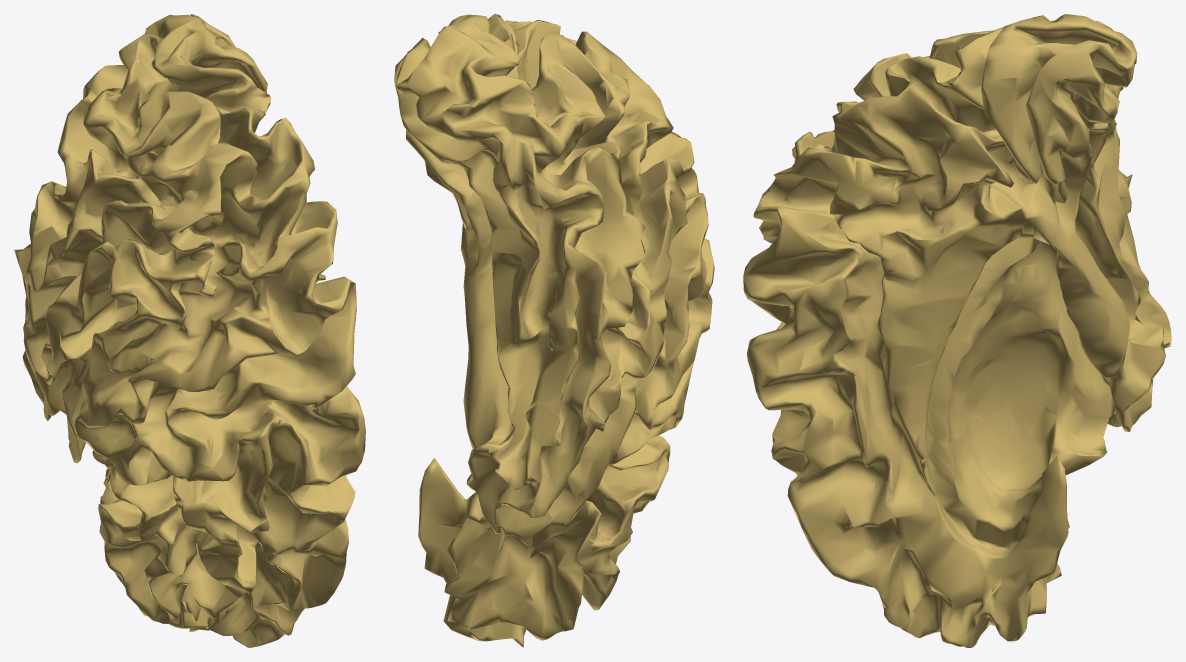
3 renders of one model, left to right at view 1: azimuth 30°, elevation 25°; view 2: azimuth 150°, elevation 25°; view 3: azimuth 270°, elevation 25°, orthographic. The views are drawn at different scales.
Visible parts, largest first — view 1: 右侧端脑白质; view 2: 右侧端脑白质; view 3: 右侧端脑白质.
Part boxes in pixels (x1=…): 右侧端脑白质: x1=14, y1=14, x2=365, y2=647; 右侧端脑白质: x1=394, y1=14, x2=714, y2=647; 右侧端脑白质: x1=743, y1=14, x2=1171, y2=647.
Size of the model in its own units: 0.0935 by 0.2577 by 0.161.
